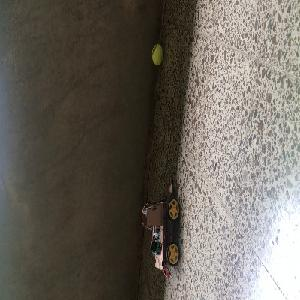Ball: (152, 44, 163, 64)
Robot: (141, 178, 180, 269)
